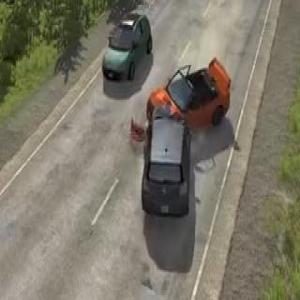low_impact: (141, 54, 236, 224)
